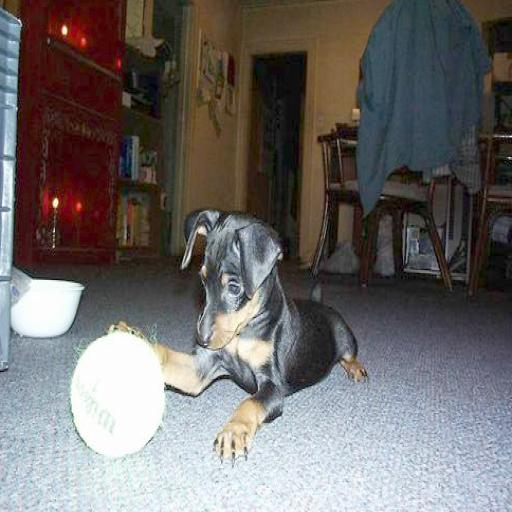dog_face: (183, 195, 280, 357)
